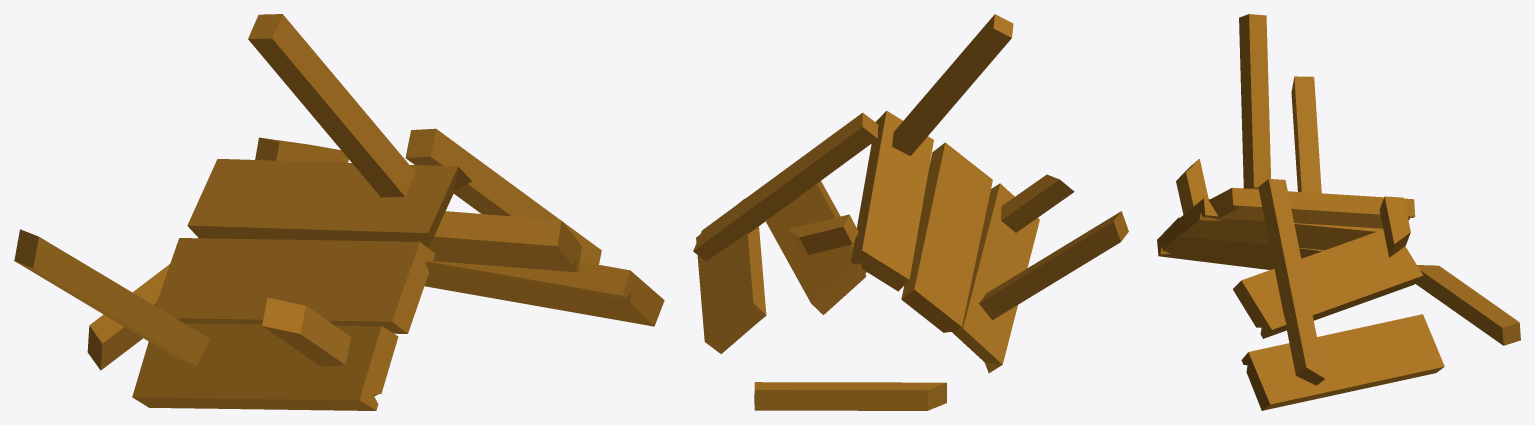
File: cadeira_quebrada_1.fbx
3 views of the same model, side by side, from view 1: azimuth 30°, elevation 25°; view 2: azimuth 150°, elevation 25°; view 3: azimuth 270°, elevation 25° (orthographic). The views are drawn at different scales.
Parts seen in each view (by area): view 1: cadeira_quebrada_1; view 2: cadeira_quebrada_1; view 3: cadeira_quebrada_1.
Part boxes in pixels (<box>): cadeira_quebrada_1: <box>14,14,664,410</box>; cadeira_quebrada_1: <box>693,14,1128,410</box>; cadeira_quebrada_1: <box>1157,14,1520,410</box>.
Size of the model in its own units: 131 by 87.75 by 101.
